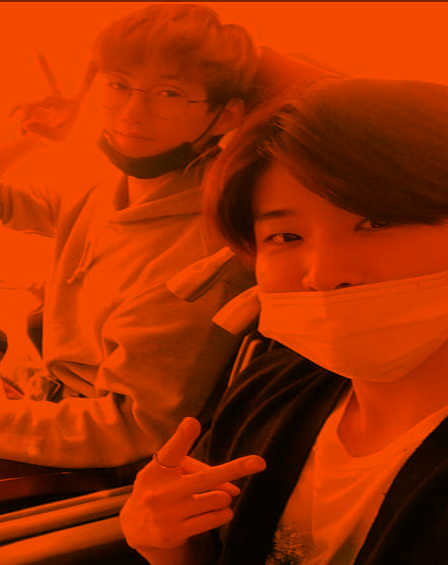mask_weared_incorrect: (227, 79, 448, 386), (84, 5, 254, 180)
